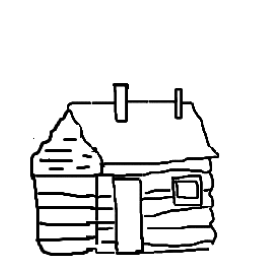bottom_placed_house: (1, 1, 260, 260)
chimney: (107, 67, 136, 133), (169, 80, 192, 125)
door: (108, 172, 148, 259)
open_window: (164, 171, 203, 211)
roof: (16, 82, 232, 170)
wall: (86, 154, 226, 257)
